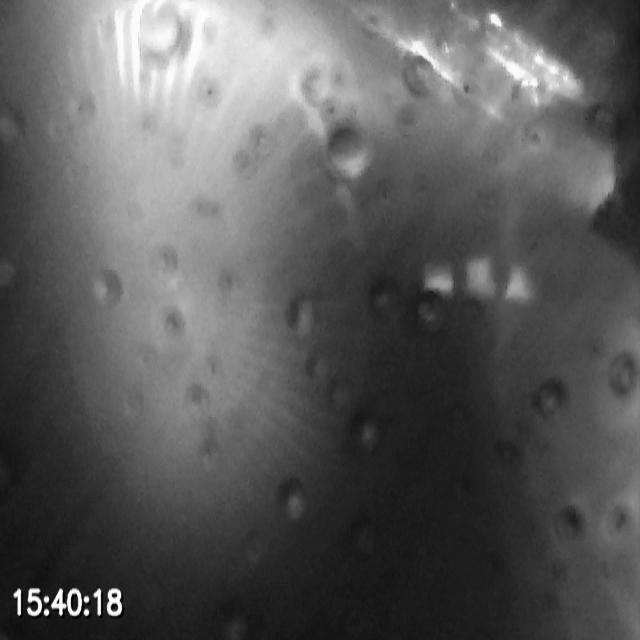white-dots: (419, 254, 533, 302)
